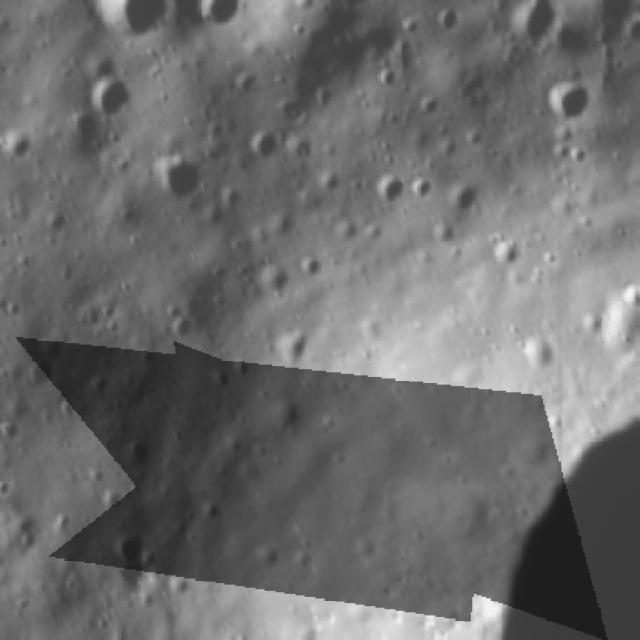crater: (95, 2, 173, 43), (538, 80, 596, 131), (508, 6, 560, 57), (154, 157, 208, 206), (90, 72, 138, 123), (517, 334, 566, 375), (106, 564, 156, 602), (448, 182, 490, 227), (275, 332, 314, 374), (198, 2, 245, 36), (110, 534, 153, 571), (117, 438, 155, 476), (2, 132, 40, 170), (249, 542, 288, 578), (374, 173, 409, 213), (258, 262, 296, 298), (492, 238, 528, 274), (26, 354, 59, 392), (41, 208, 76, 240), (250, 129, 281, 165), (300, 256, 328, 286), (430, 12, 464, 36), (96, 493, 127, 518), (409, 179, 437, 206), (378, 67, 402, 96), (172, 320, 199, 345), (79, 310, 104, 336), (98, 300, 125, 322)
